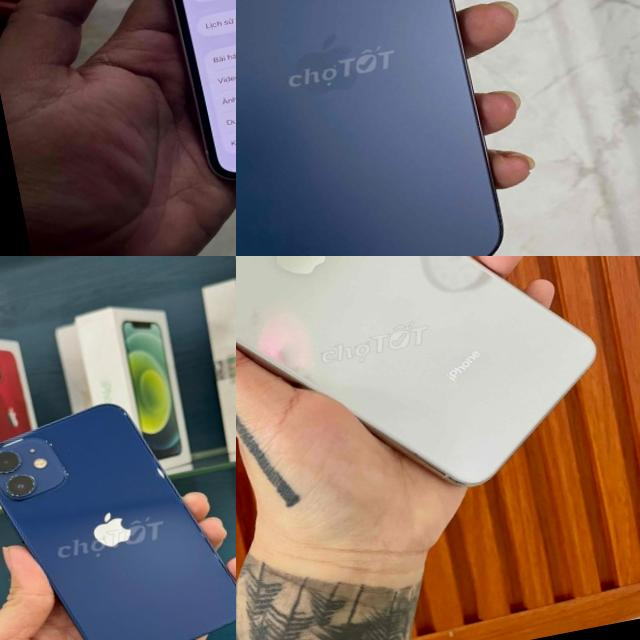gen_12_13: (236, 0, 515, 256), (0, 380, 236, 640), (145, 0, 236, 191)
gen_x_xs: (236, 256, 640, 553)
